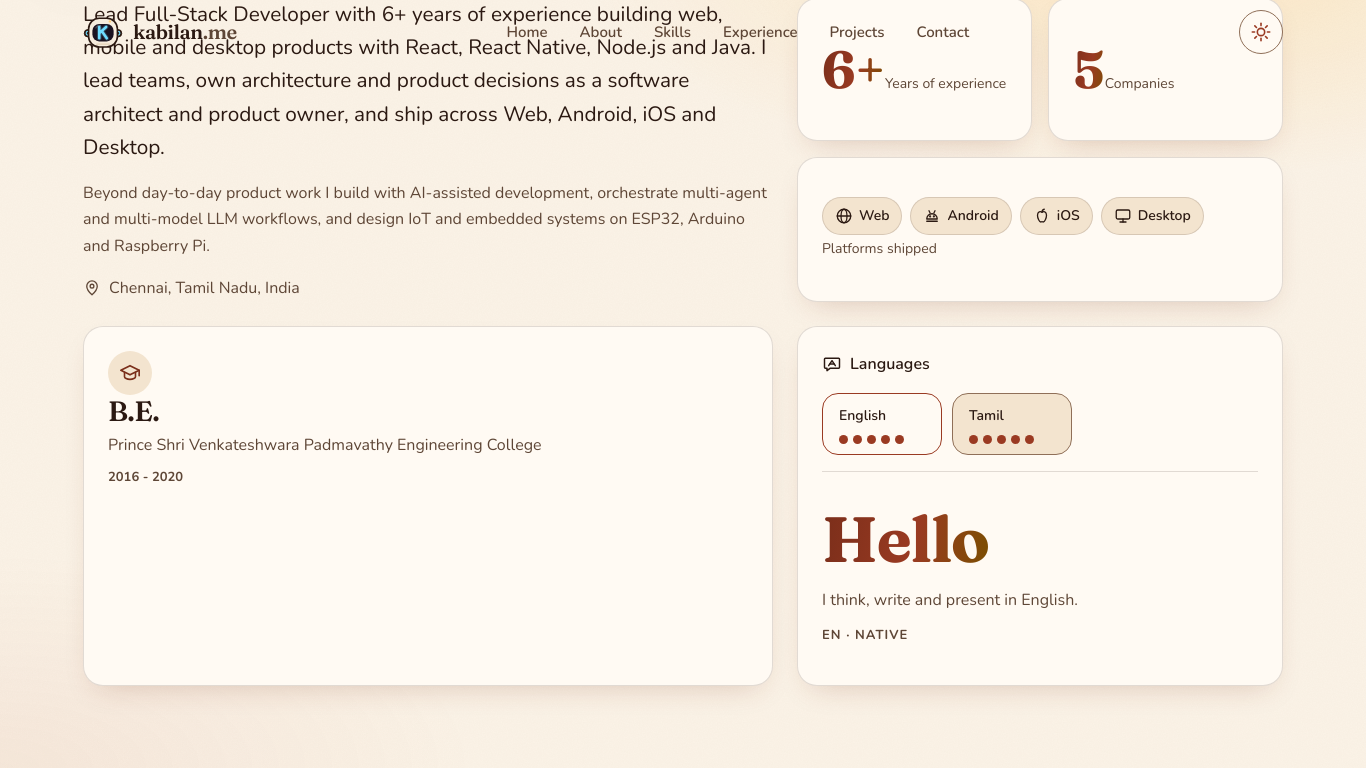
Test: languages card › clicking Tamil sets aria-pressed and shows the Tamil greeting
(page scrolled)
Step 1. Click the button "Tamil" → click(1012, 424), box [952,393,1072,455]
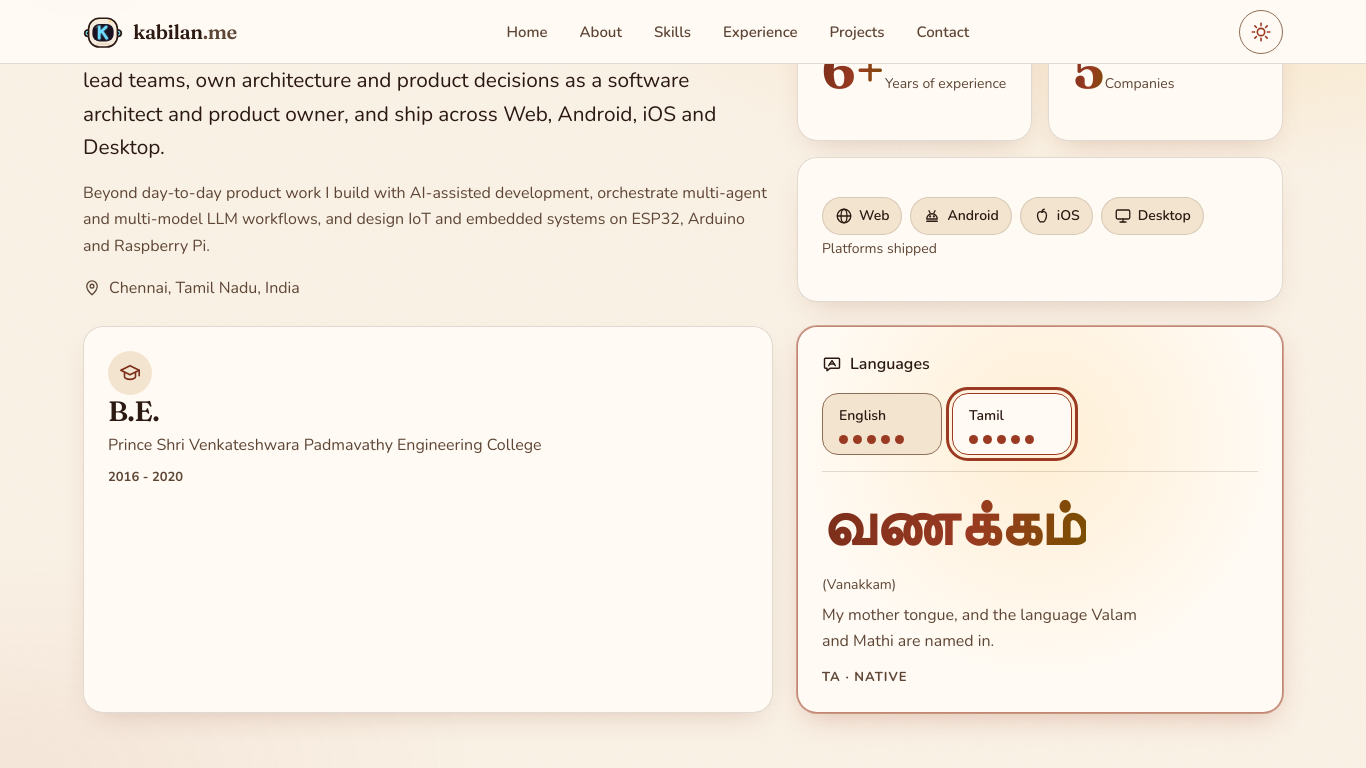
Expected: the button "Tamil" is pressed, [952,393,1072,455]
Expected: the button "English" is not pressed, [822,393,942,455]
Expected: the text "வணக்கம்" has attribute lang="ta", [822,488,1086,567]
